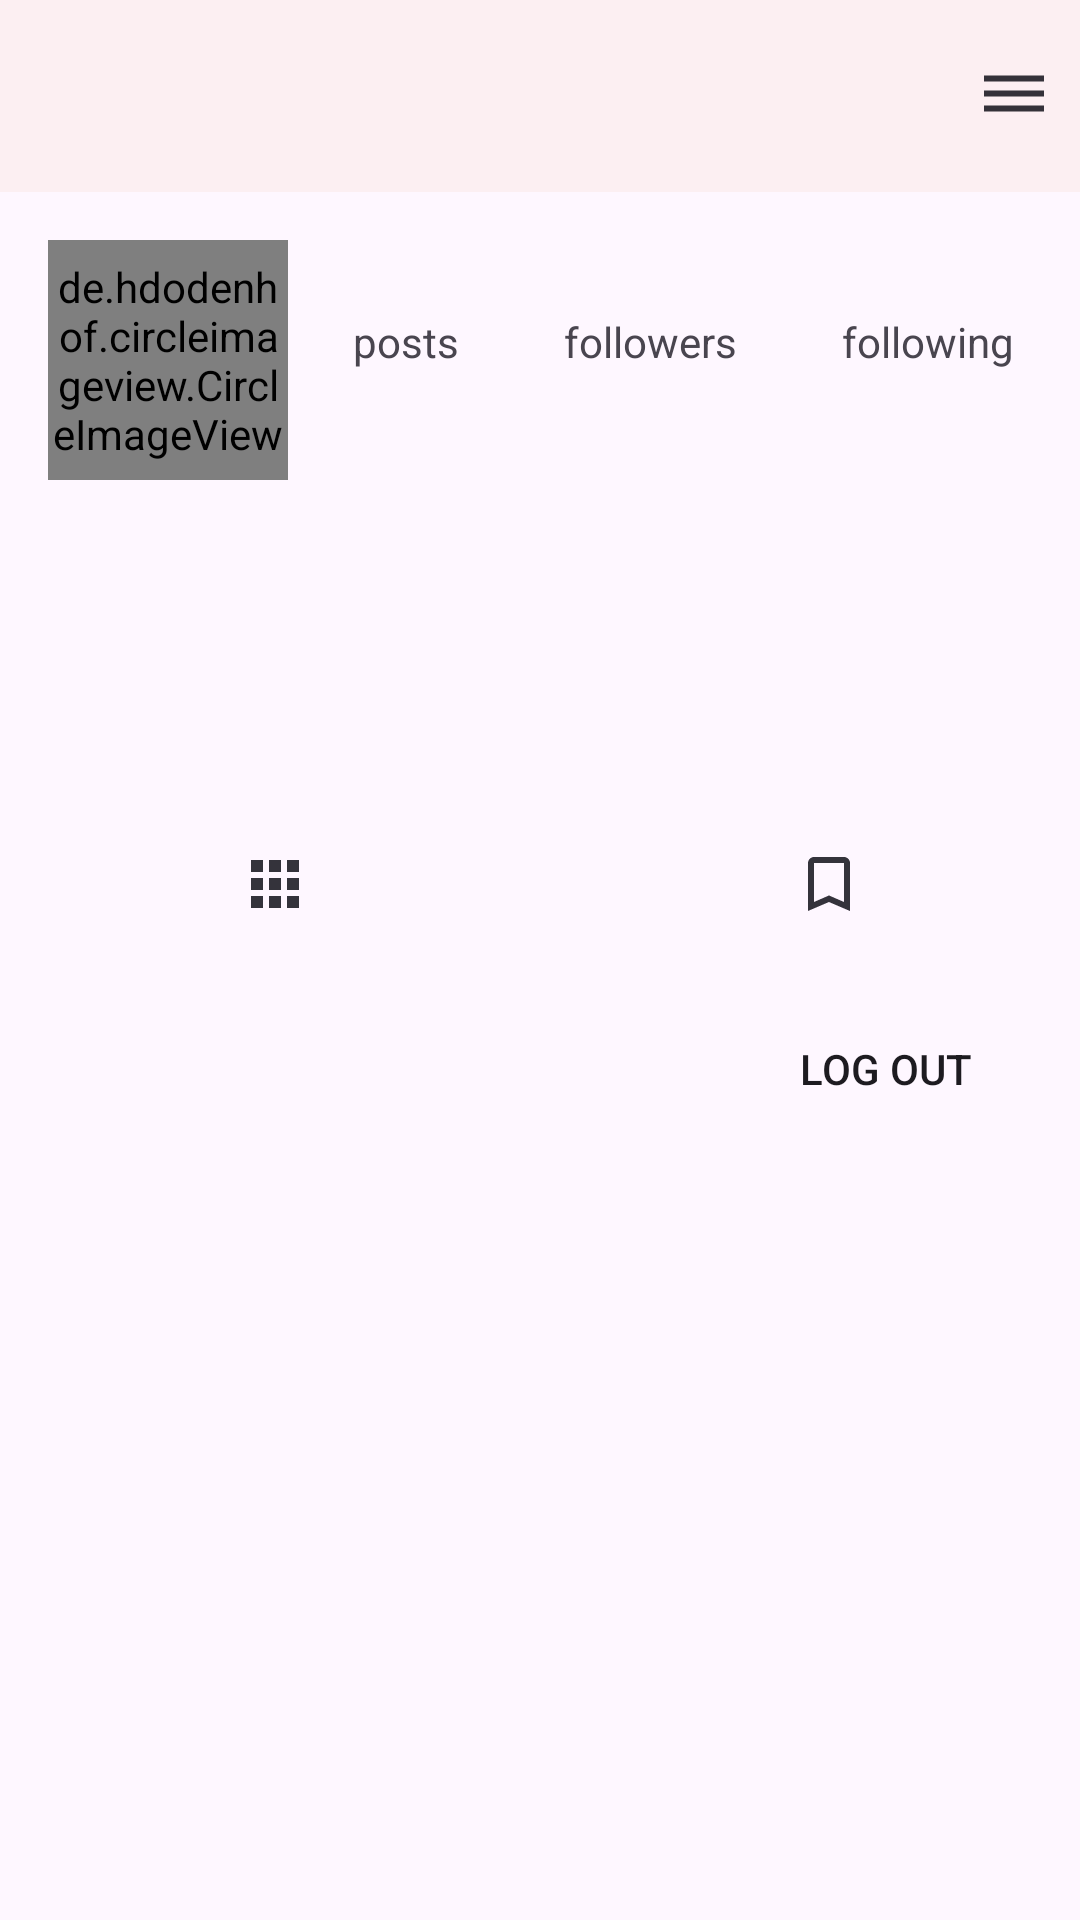

Screen size 1080px×1920px. Icon name, then its center in pixels as point (x, y):
grid: point (275, 884)
options: point (1014, 93)
save: point (829, 884)
